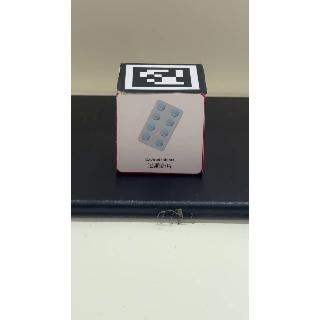Tablet: (119, 92, 207, 175)
